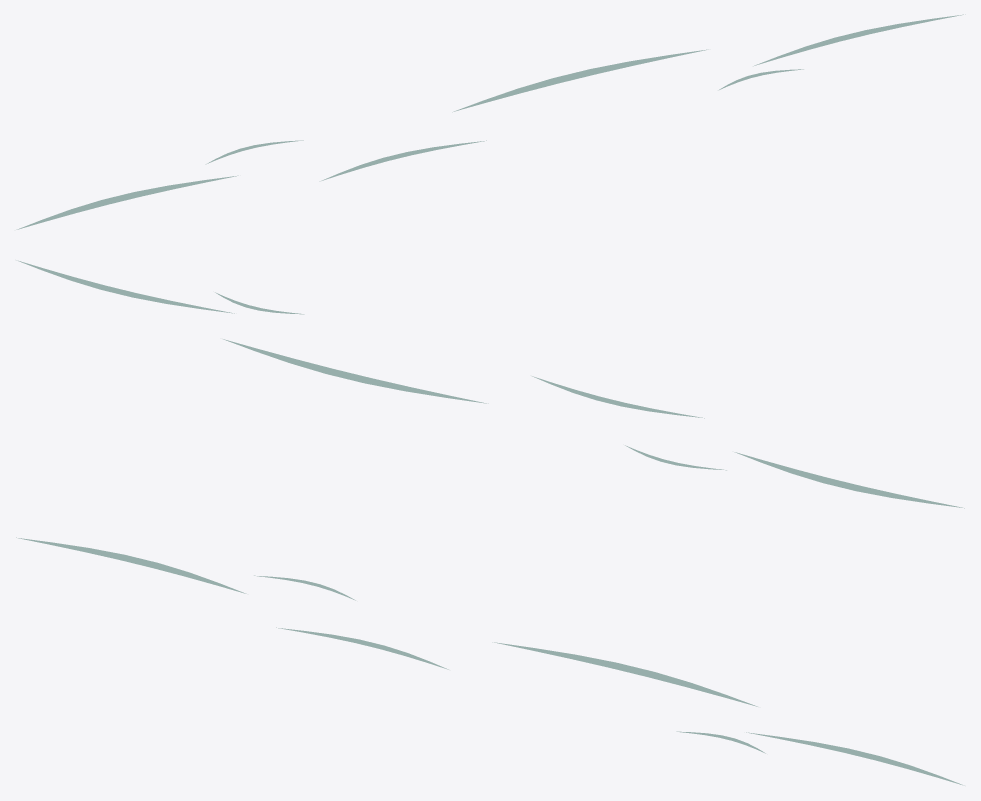
The model's file is ripple.glb.
3 views of the same model, one above another, from view 1: azimuth 30°, elevation 25°; view 2: azimuth 150°, elevation 25°; view 3: azimuth 330°, elevation 25° (orthographic). The views are drawn at different scales.
Size of the model in its own units: 8.25 by 0 by 0.9209.
